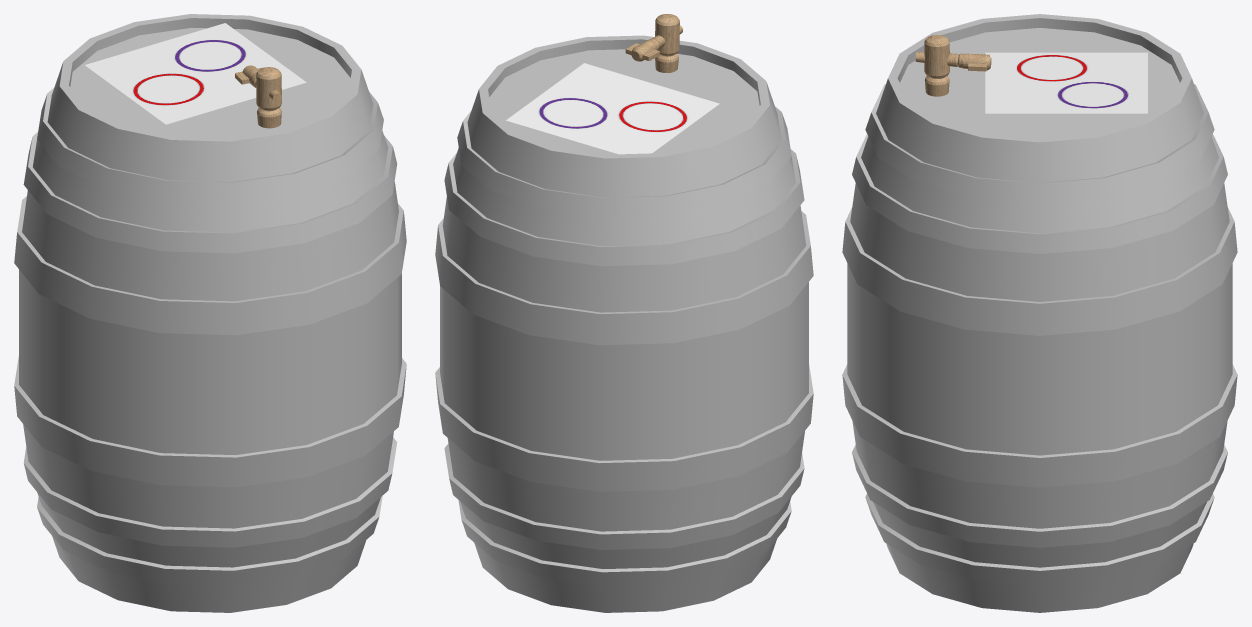
File: LargeBarrel.fbx
The picture shows the model from 3 angles, left to right: view 1: azimuth 30°, elevation 25°; view 2: azimuth 150°, elevation 25°; view 3: azimuth 270°, elevation 25°; orthographic projection. The views are drawn at different scales.
Parts seen in each view (by area): view 1: LargeBarrel, CaskClue1, Tap_Drawer; view 2: LargeBarrel, CaskClue1, Tap_Drawer; view 3: LargeBarrel, CaskClue1, Tap_Drawer.
Part boxes in pixels (box(x1,y1,x2,y2)): LargeBarrel: box(14, 14, 406, 612); CaskClue1: box(85, 23, 306, 124); Tap_Drawer: box(235, 65, 282, 128); LargeBarrel: box(435, 35, 813, 612); CaskClue1: box(506, 63, 719, 154); Tap_Drawer: box(625, 14, 682, 72); LargeBarrel: box(842, 14, 1237, 612); CaskClue1: box(985, 52, 1147, 113); Tap_Drawer: box(915, 35, 991, 96).
Bounding box in the file's own units: 81.4 × 117 × 81.4.
